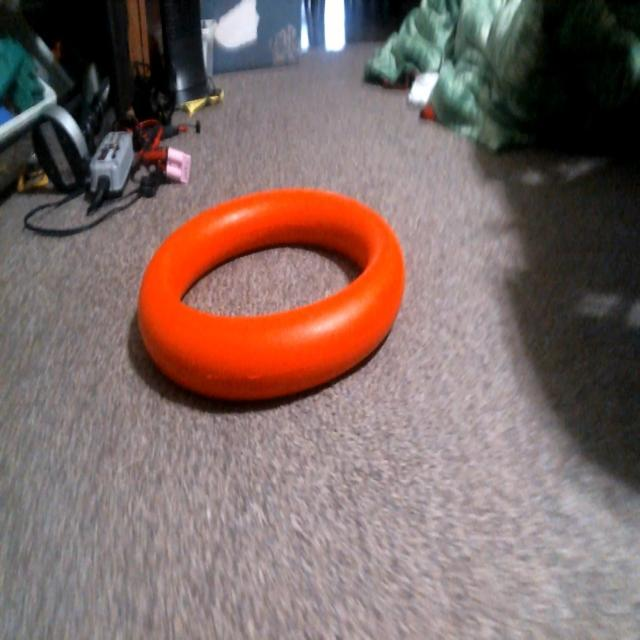note: (136, 183, 407, 410)
